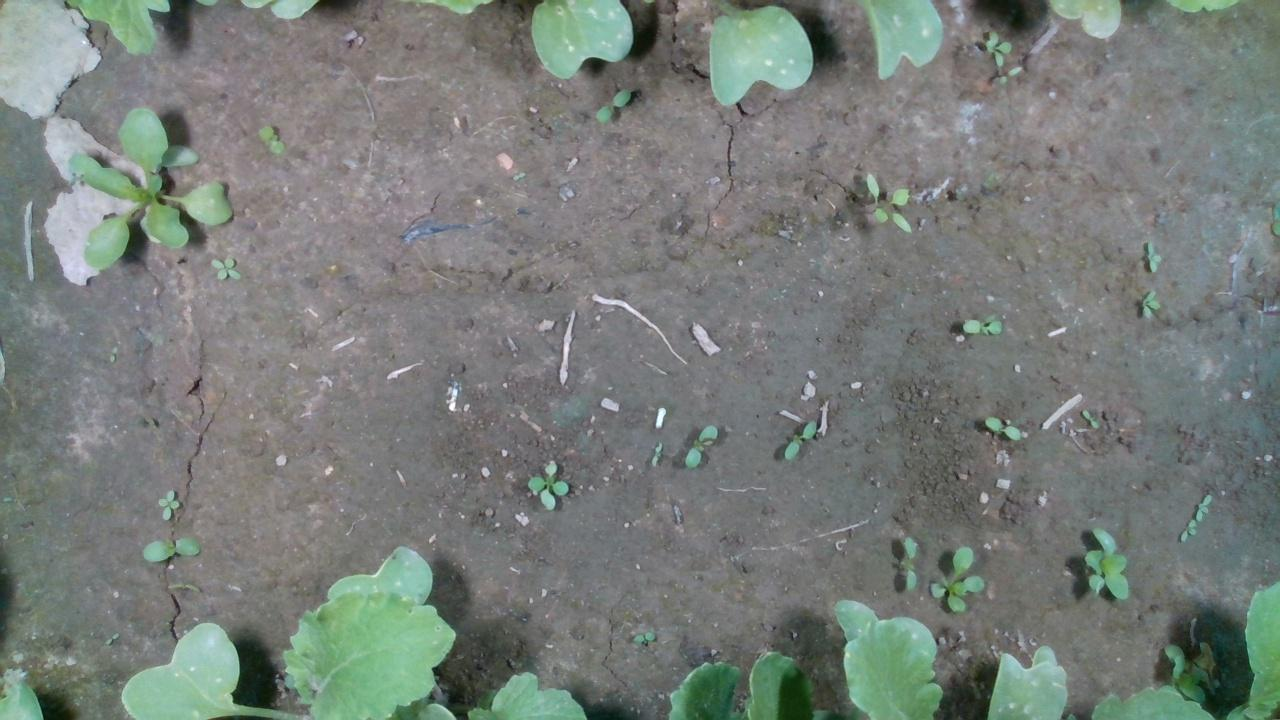weed: (865, 171, 912, 234), (525, 457, 569, 512), (683, 422, 718, 469), (141, 536, 201, 562), (782, 417, 817, 461), (592, 86, 631, 123), (980, 413, 1022, 442), (983, 28, 1010, 69), (960, 311, 1003, 335), (902, 536, 920, 593), (155, 485, 181, 520), (257, 124, 285, 154), (209, 256, 241, 281), (1140, 287, 1160, 319), (1144, 238, 1162, 272), (165, 581, 201, 594), (648, 439, 663, 467), (1079, 406, 1098, 428), (1179, 517, 1196, 541), (105, 631, 119, 646)
